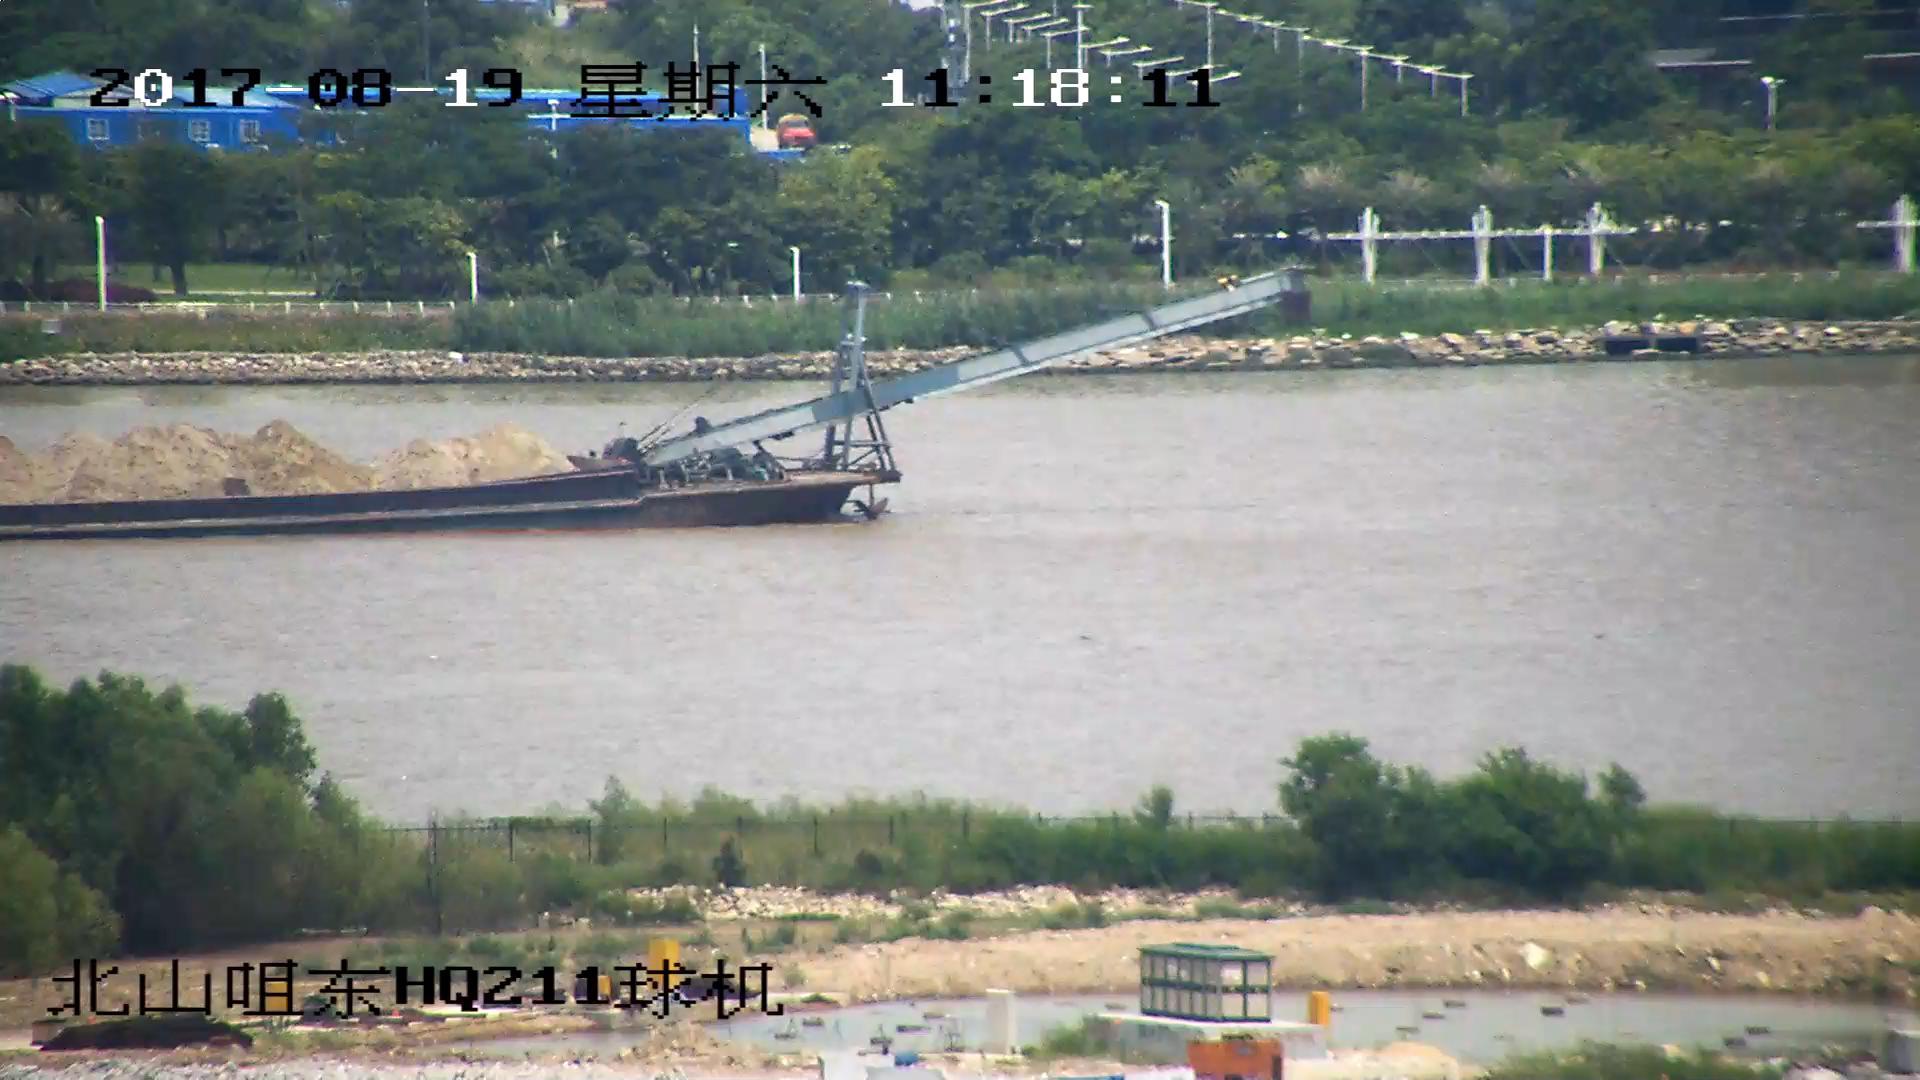ore carrier: (1, 269, 1297, 543)
